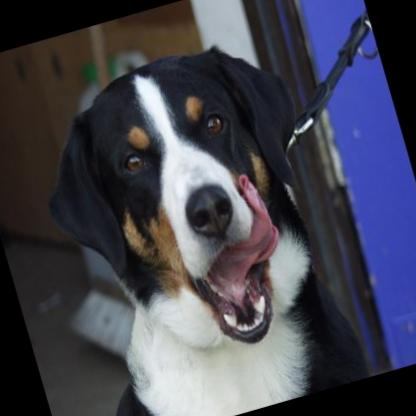Appenzeller: (1, 24, 373, 416)
